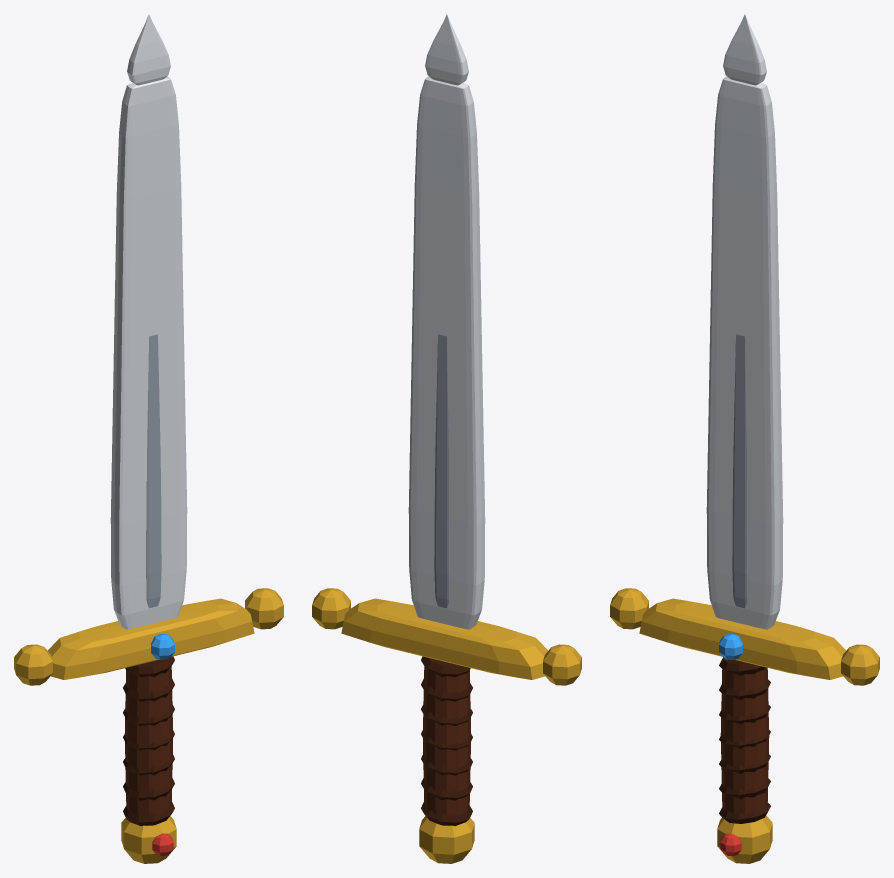
File: m-sword.glb
3 renders of one model, left to right at view 1: azimuth 30°, elevation 25°; view 2: azimuth 150°, elevation 25°; view 3: azimuth 330°, elevation 25°, orthographic.
Visible parts, largest first — view 1: melee; view 2: melee; view 3: melee.
Boxes of the visible parts, box(x1,y1,x2,y2) form: melee: box(14, 14, 283, 863); melee: box(312, 14, 581, 863); melee: box(610, 14, 879, 863).
Size of the model in its own units: 1.01 by 3.09 by 0.2279.
